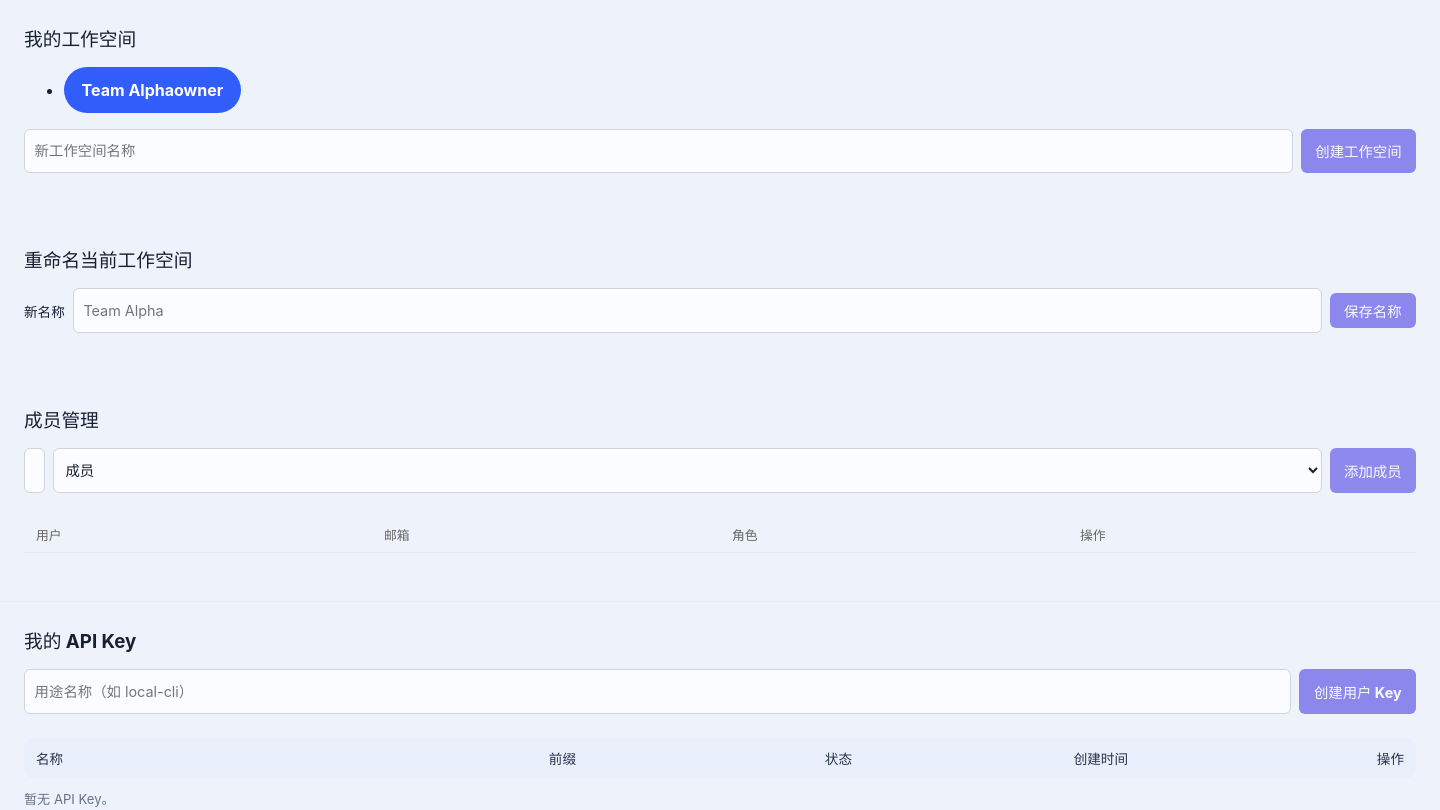
Test case: WorkspaceManagement rename › renames the current workspace when the owner saves a new name
Type "Team Renamed" into the field labelled "新名称" at {"x": 697, "y": 311}, box [73, 288, 1322, 333]
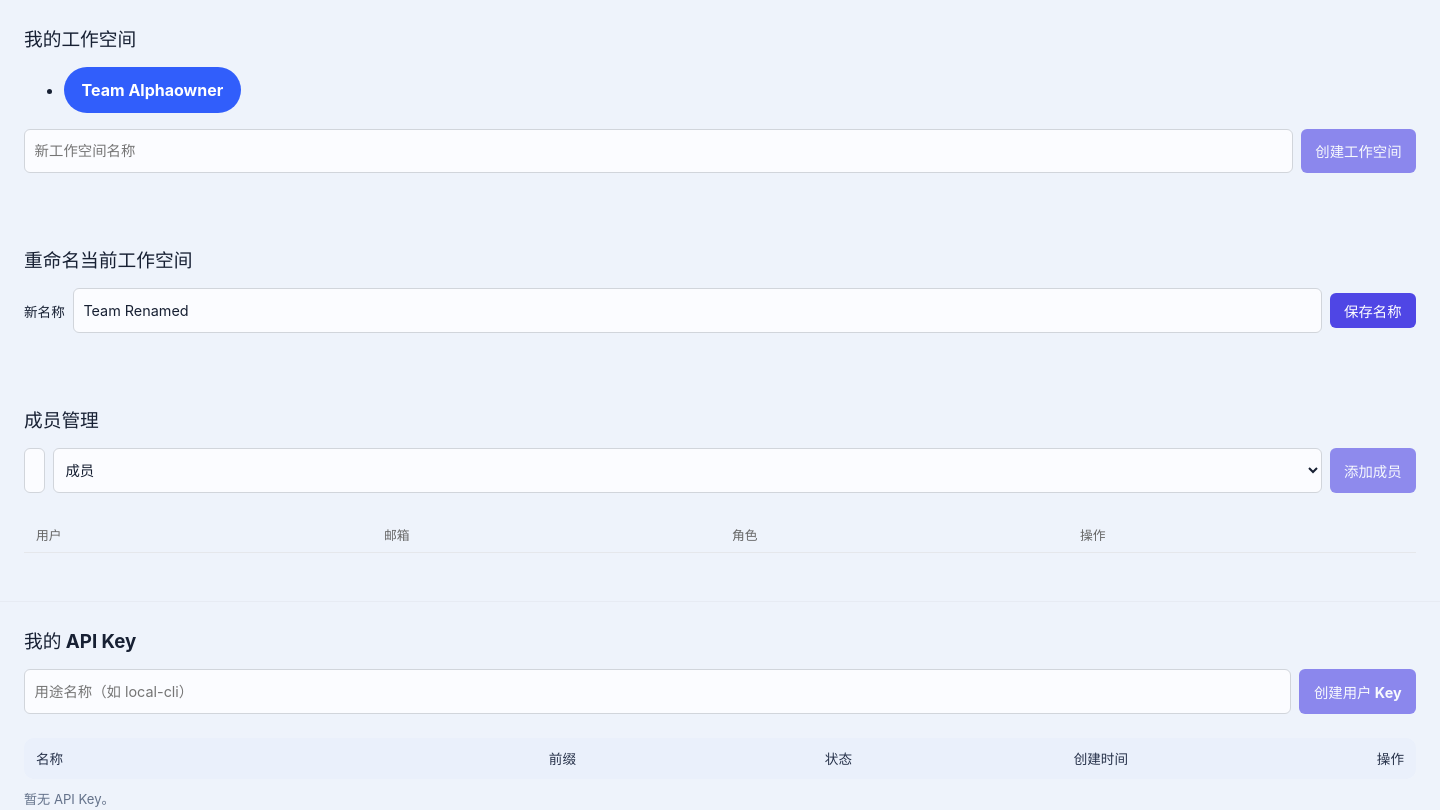
Click the button "保存名称" at {"x": 1373, "y": 311}, box [1330, 293, 1416, 328]
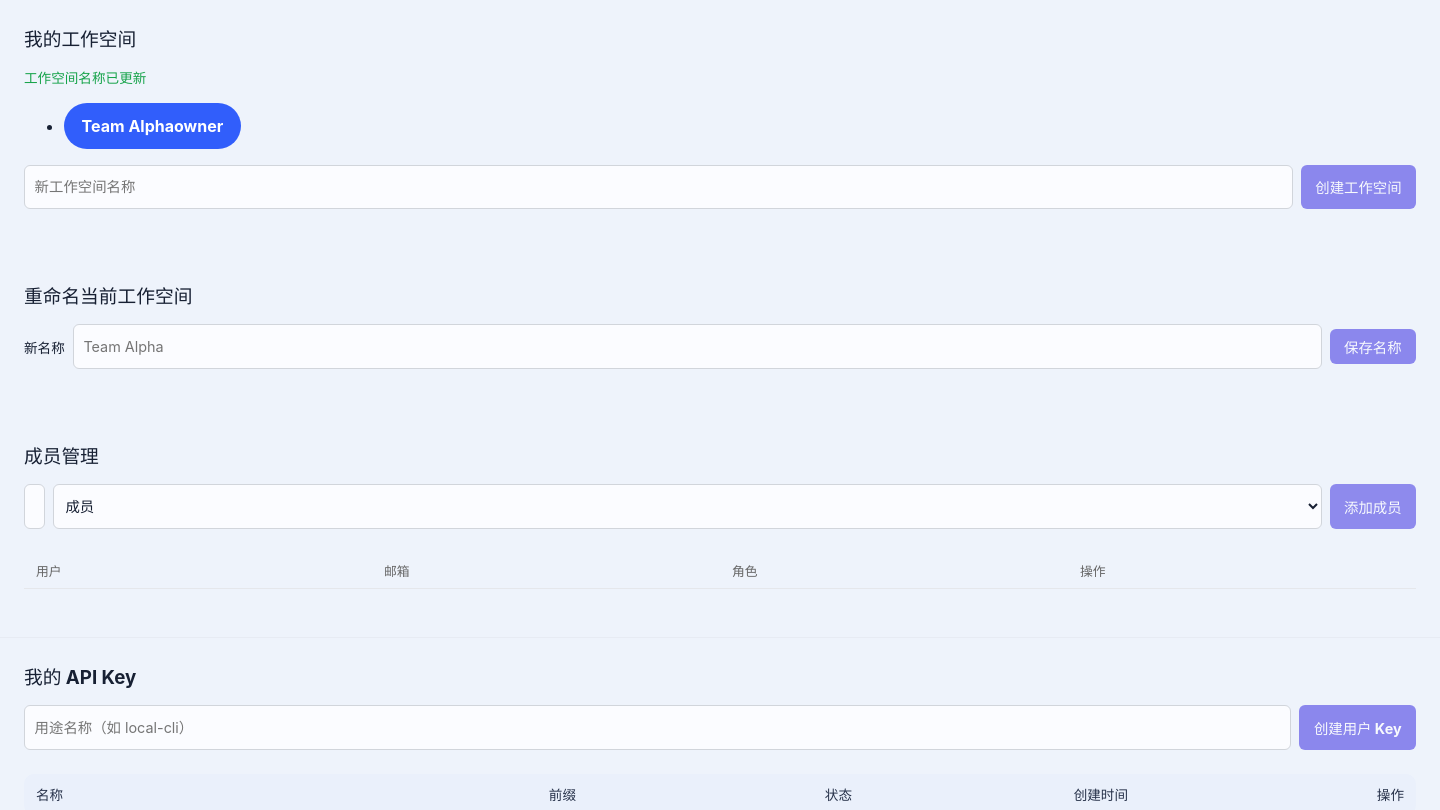
Expected: the text "工作空间名称已更新" is shown, [24, 70, 146, 86]
